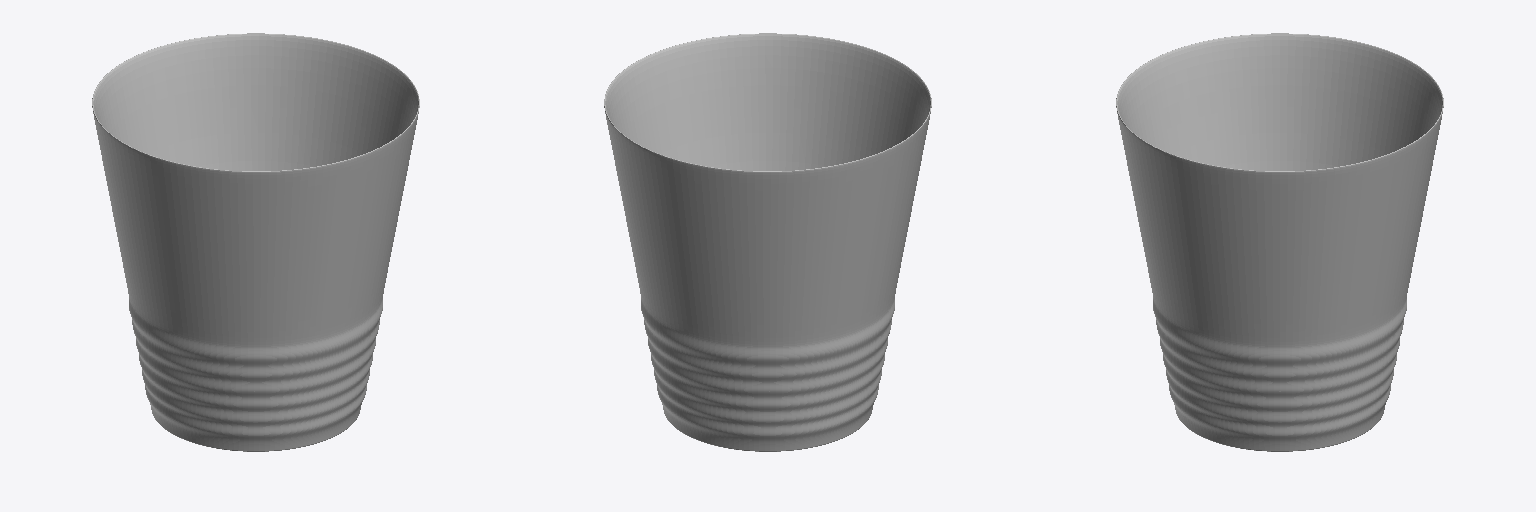
The model's file is Water Glass.obj.
3 views of the same model, side by side, from view 1: azimuth 30°, elevation 25°; view 2: azimuth 150°, elevation 25°; view 3: azimuth 270°, elevation 25° (orthographic).
Visible parts, largest first — view 1: Circle_Circle.003; view 2: Circle_Circle.003; view 3: Circle_Circle.003.
Part boxes in pixels (x1,y1,x2,y2): Circle_Circle.003: (92, 33, 419, 451); Circle_Circle.003: (604, 33, 931, 451); Circle_Circle.003: (1116, 33, 1443, 451).
Size of the model in its own units: 3.16 by 3.27 by 3.16.